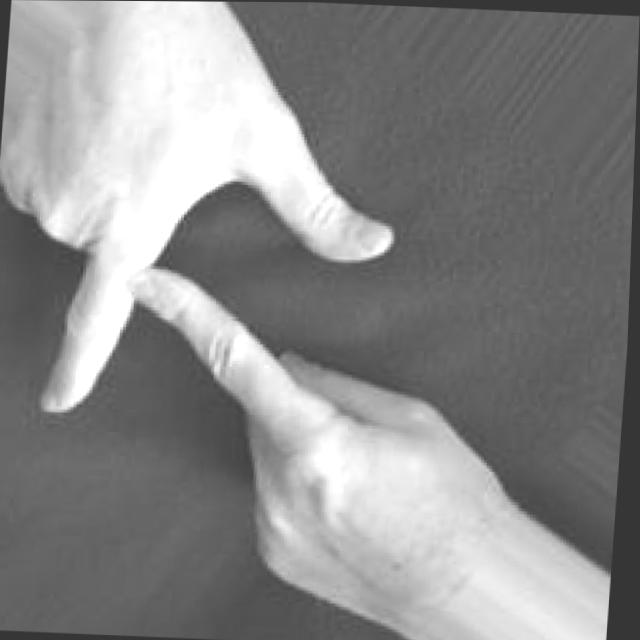F: (0, 0, 419, 619)
